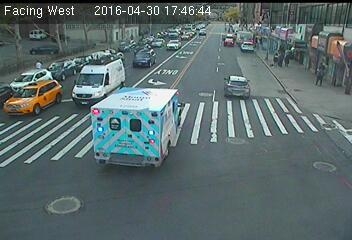neg: (217, 135, 247, 176), (113, 76, 140, 112), (186, 142, 213, 178), (223, 74, 247, 106), (309, 152, 333, 184), (64, 183, 87, 212), (136, 129, 157, 156), (208, 34, 229, 61), (110, 174, 130, 201), (262, 178, 282, 203), (137, 38, 156, 63), (26, 51, 44, 76), (210, 206, 228, 230), (40, 114, 58, 137), (288, 122, 304, 144), (88, 67, 104, 88), (251, 111, 267, 132), (170, 88, 185, 107), (182, 50, 194, 66)
pos: (315, 61, 333, 85), (284, 53, 294, 67), (274, 51, 283, 63)
